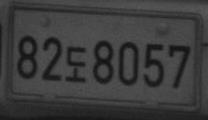0: (117, 40, 139, 86)
2: (41, 35, 62, 80)
5: (143, 43, 165, 89)
7: (168, 45, 192, 91)
8: (92, 39, 115, 84), (16, 34, 38, 80)
도: (65, 45, 87, 83)
